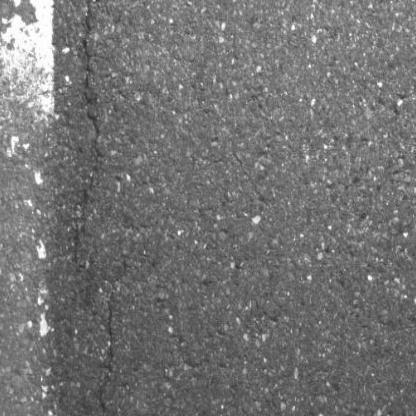Cracks: (70, 0, 106, 266), (96, 298, 118, 416)
